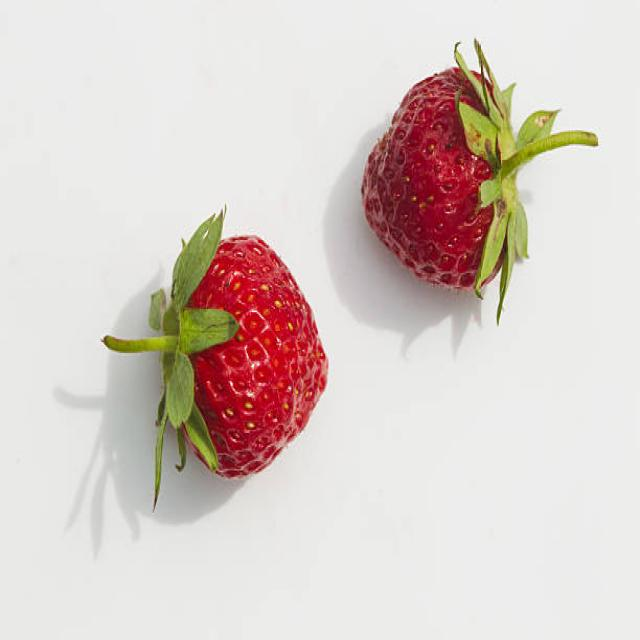Healthy Fruit: (179, 234, 328, 481), (361, 62, 517, 287)
